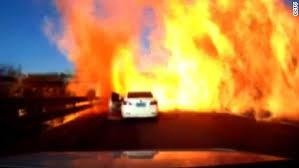fire: (97, 0, 296, 115)
